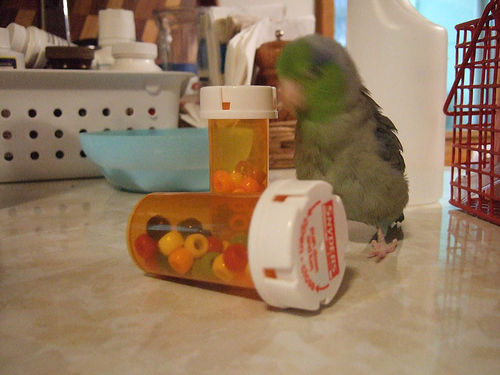pill bottle: (127, 178, 354, 314), (197, 83, 280, 196)
